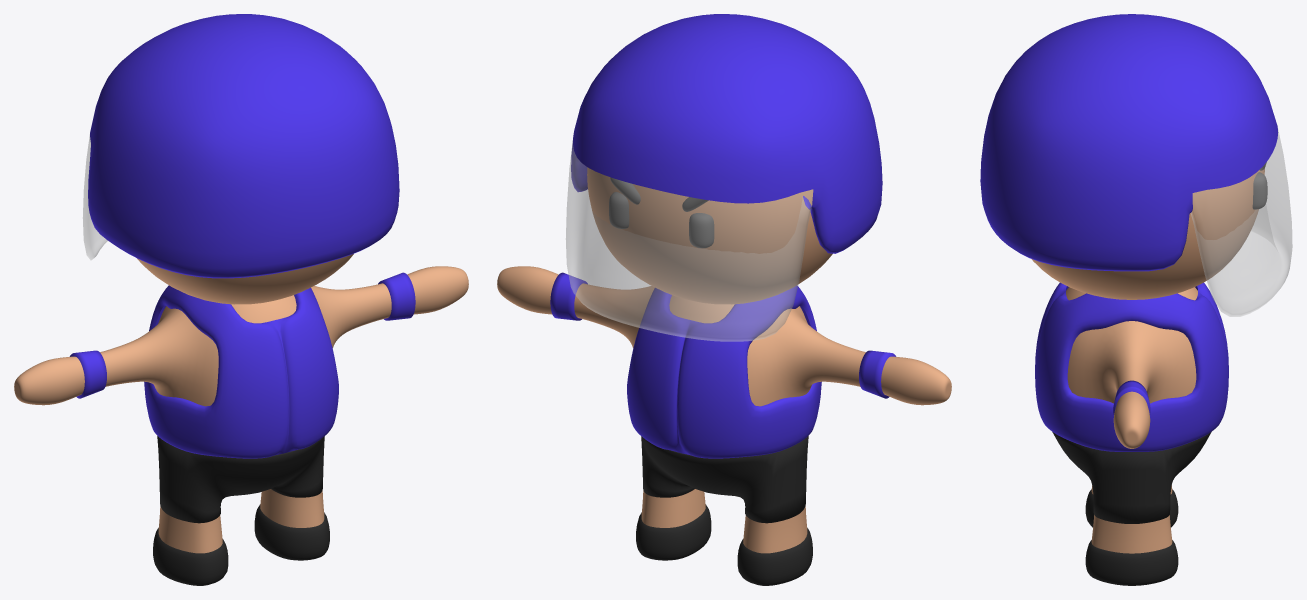
The model's file is policeman.fbx.
3 renders of one model, left to right at view 1: azimuth 30°, elevation 25°; view 2: azimuth 150°, elevation 25°; view 3: azimuth 270°, elevation 25°, orthographic.
Visible parts, largest first — view 1: Hat, jacket, body, body.002, body.001, head, Braclet; view 2: Hat, jacket, body, head, body.002, body.001, Braclet, Eye, Eyebrow; view 3: Hat, jacket, body, head, body.002, body.001, Eye, Braclet.
Part boxes in pixels (x1,y1,x2,y2): Hat: (83, 14, 399, 278); jacket: (144, 285, 338, 458); body: (14, 266, 468, 553); body.002: (157, 436, 324, 523); body.001: (153, 504, 329, 585); head: (137, 254, 353, 304); Braclet: (69, 272, 415, 398); Hat: (566, 14, 882, 341); jacket: (627, 285, 821, 458); body: (497, 266, 951, 553); head: (587, 167, 832, 304); body.002: (641, 436, 808, 523); body.001: (636, 504, 812, 585); Braclet: (550, 272, 896, 398); Eye: (609, 192, 714, 248); Eyebrow: (610, 177, 708, 211); Hat: (980, 14, 1292, 316); jacket: (1035, 282, 1228, 451); body: (1066, 287, 1197, 553); head: (1031, 168, 1264, 299); body.002: (1052, 432, 1211, 523); body.001: (1085, 489, 1178, 585); Eye: (1252, 162, 1267, 209); Braclet: (1113, 380, 1150, 414).
Size of the model in its own units: 656 by 402 by 738.
